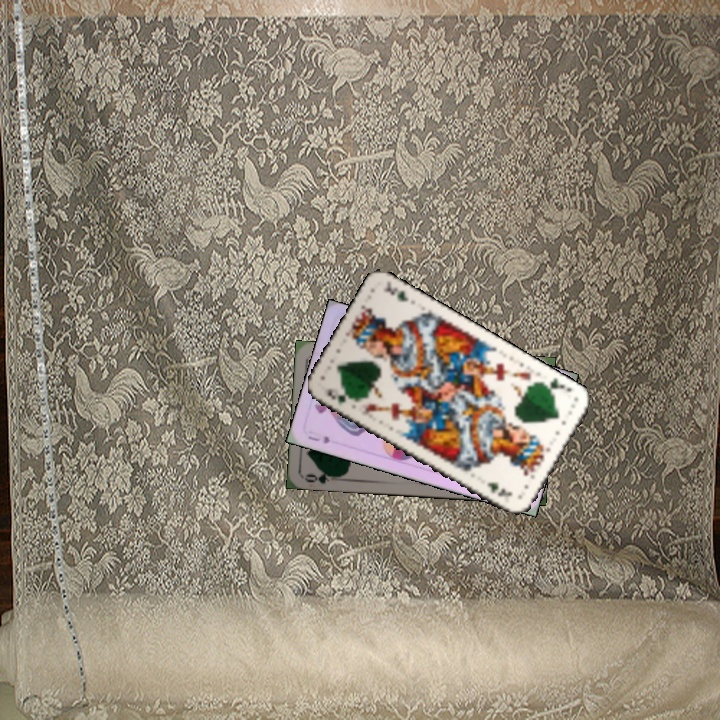GK: (322, 384, 358, 406), (540, 374, 575, 396)
GO: (301, 466, 342, 486)
SU: (304, 432, 333, 446)
